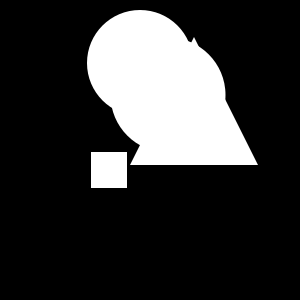circle: (91, 152, 127, 188)
rectangle: (111, 37, 226, 152), (87, 10, 193, 116)
triangle: (130, 37, 258, 165)
